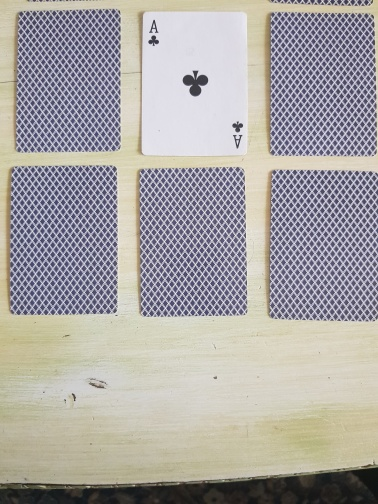ace: (138, 11, 250, 157)
